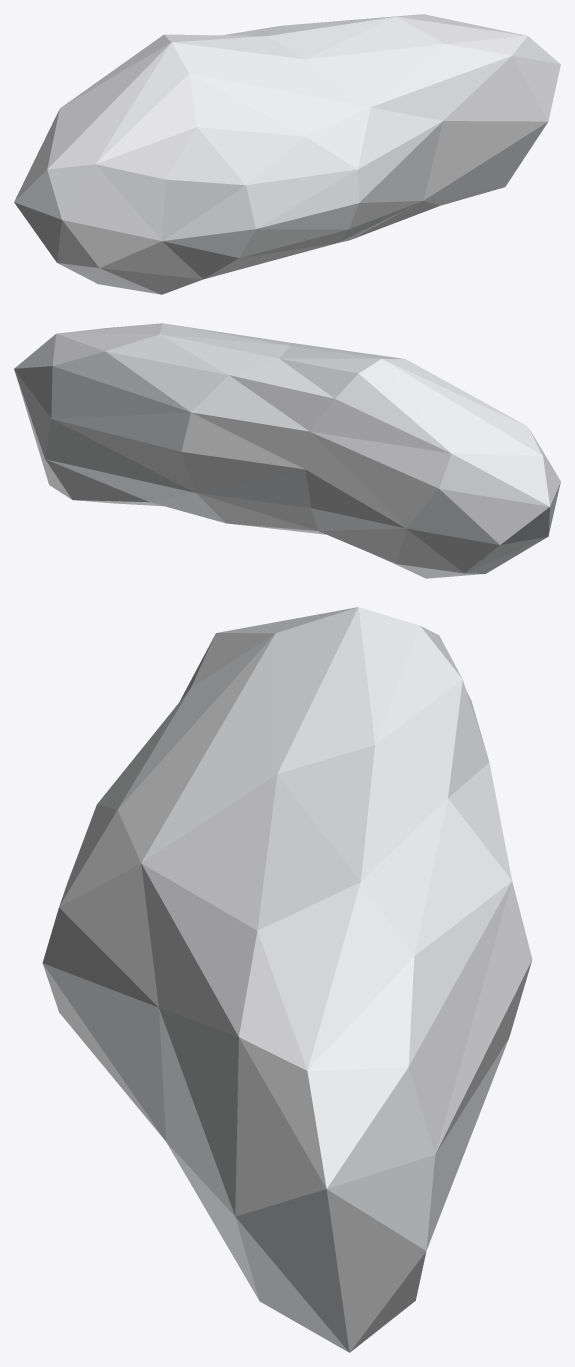
The model's file is Clouds.fbx.
3 renders of one model, top to bottom at view 1: azimuth 30°, elevation 25°; view 2: azimuth 150°, elevation 25°; view 3: azimuth 270°, elevation 25°, orthographic. The views are drawn at different scales.
Parts seen in each view (by area): view 1: Cloud.003; view 2: Cloud.003; view 3: Cloud.003.
Boxes of the visible parts, bbox=[...] form: Cloud.003: bbox=[14, 14, 560, 294]; Cloud.003: bbox=[14, 323, 560, 578]; Cloud.003: bbox=[42, 607, 532, 1352].
Size of the model in its own units: 54.46 by 21.14 by 21.49.
